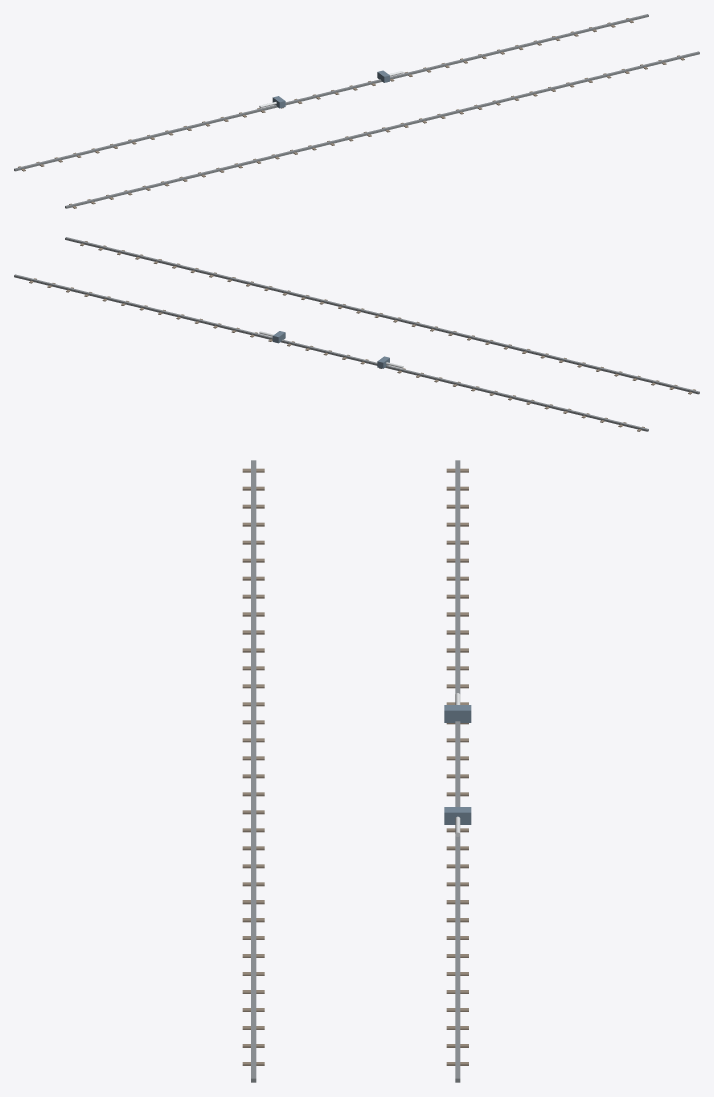
Rendered from rails.glb.
3 views of the same model, one above another, from view 1: azimuth 30°, elevation 25°; view 2: azimuth 150°, elevation 25°; view 3: azimuth 270°, elevation 25° (orthographic). The views are drawn at different scales.
Bounding box in the file's own units: 86 × 0.95 × 13.45.
